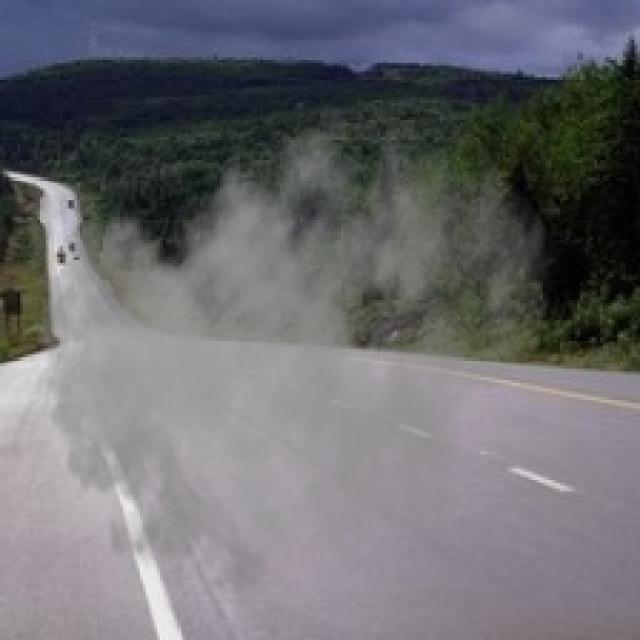smoke: (26, 80, 554, 620)
